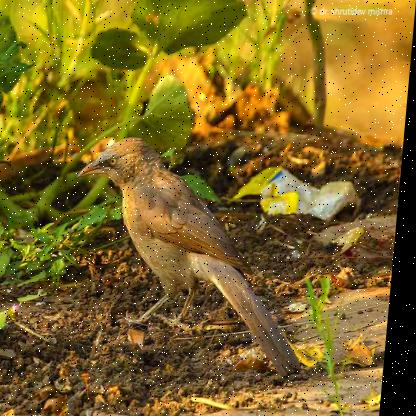Burung: (66, 138, 322, 378)
